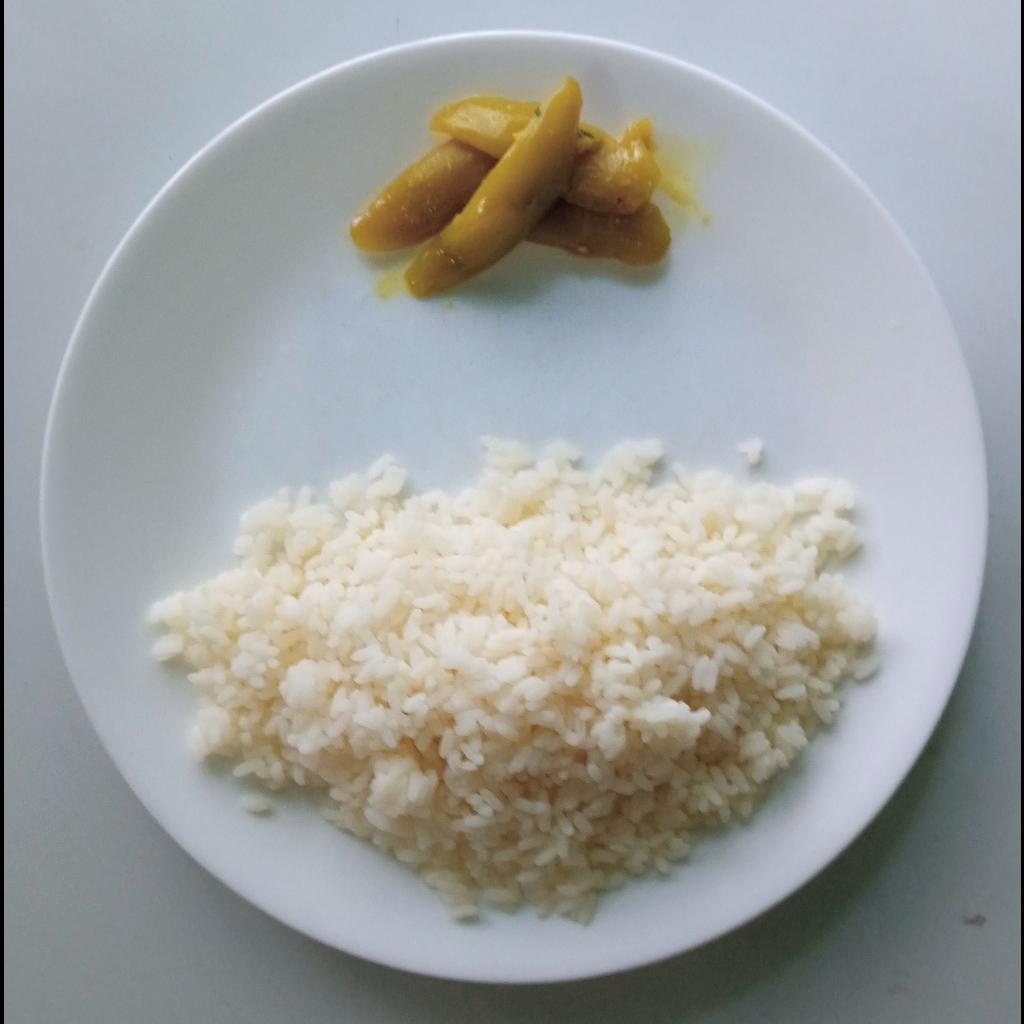potol: (350, 76, 671, 301)
rice: (148, 435, 882, 934)
